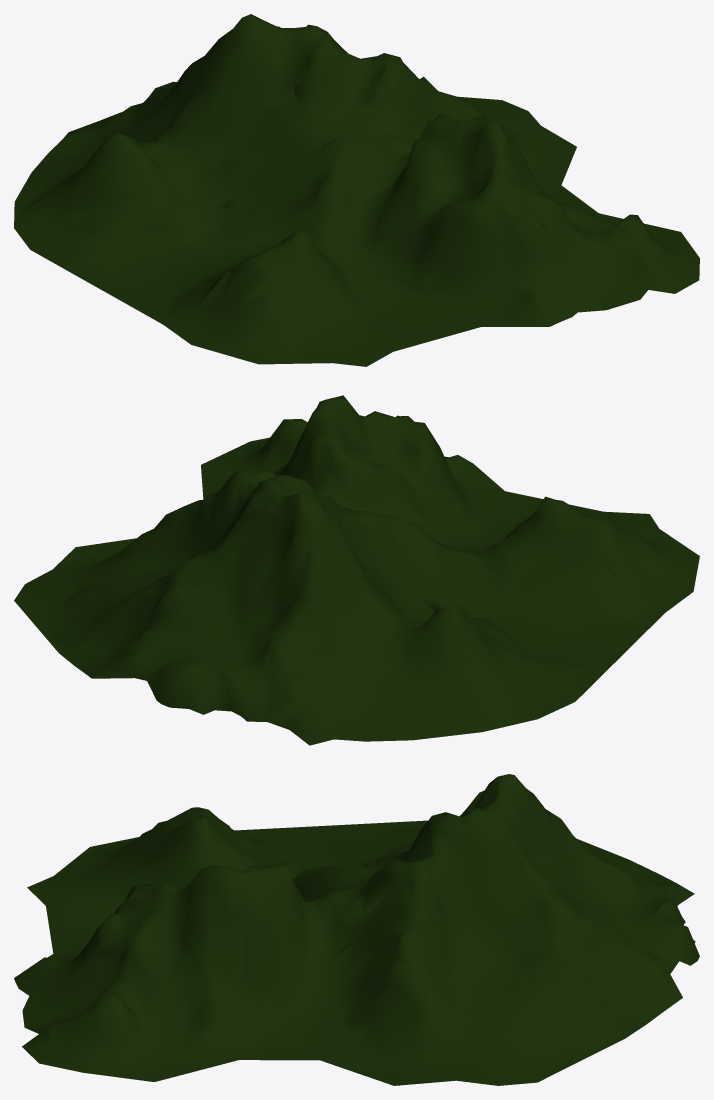
File: Mountain V06S.FBX
3 renders of one model, top to bottom at view 1: azimuth 30°, elevation 25°; view 2: azimuth 150°, elevation 25°; view 3: azimuth 270°, elevation 25°, orthographic. The views are drawn at different scales.
Parts seen in each view (by area): view 1: Mountain V06S; view 2: Mountain V06S; view 3: Mountain V06S.
Boxes of the visible parts, <box> form: Mountain V06S: <box>14,14,699,366</box>; Mountain V06S: <box>14,395,699,745</box>; Mountain V06S: <box>14,774,699,1085</box>.
Size of the model in its own units: 23.58 by 7 by 25.52.
